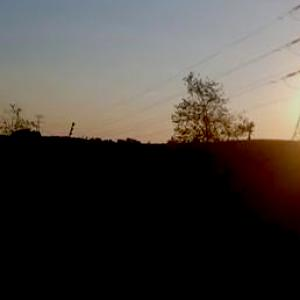follow: (126, 150, 200, 299)
